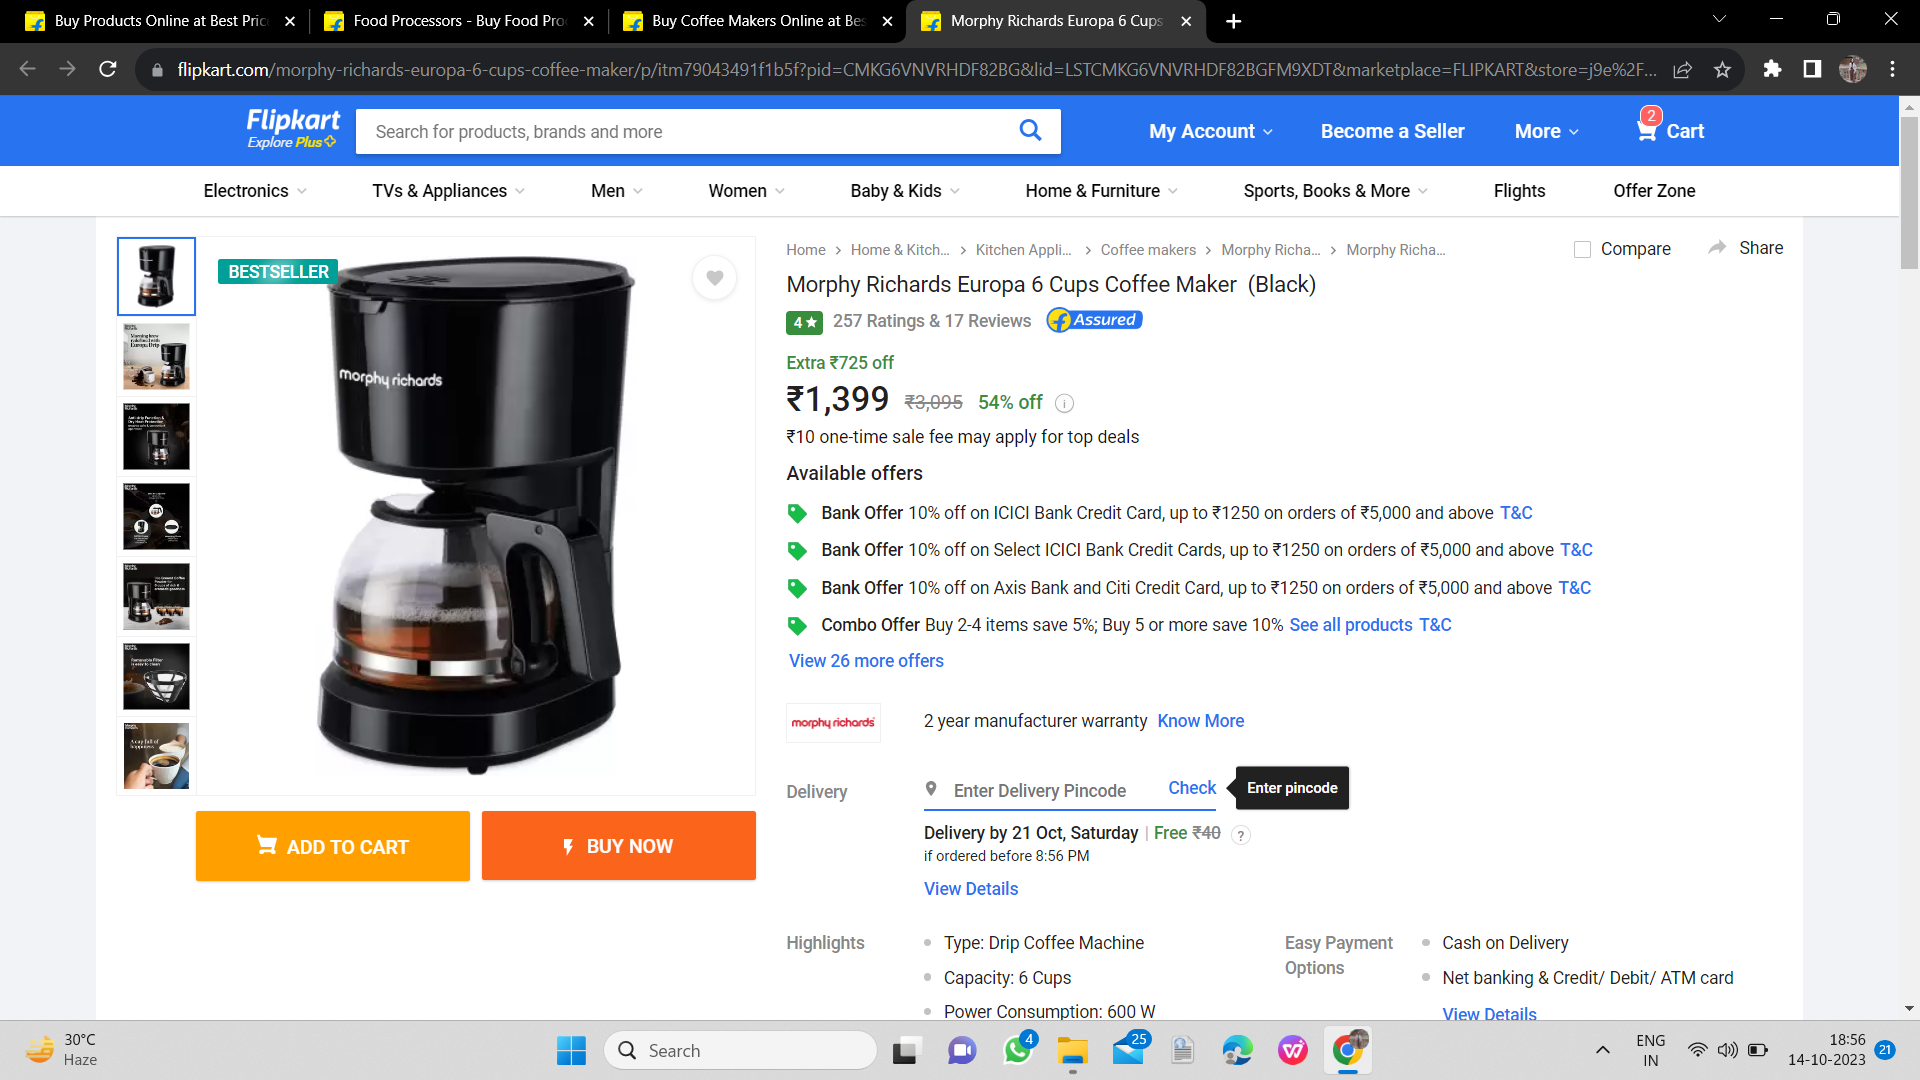Image: (210, 233, 760, 781)
Paragraph: (777, 496, 1592, 669), (781, 761, 1370, 902), (179, 807, 766, 889), (1133, 92, 1721, 162), (781, 349, 1153, 454), (774, 923, 1171, 1018), (783, 261, 1319, 306), (790, 696, 1253, 740), (1273, 956, 1751, 990), (783, 302, 1154, 340), (1266, 916, 1588, 953), (781, 462, 930, 483)
